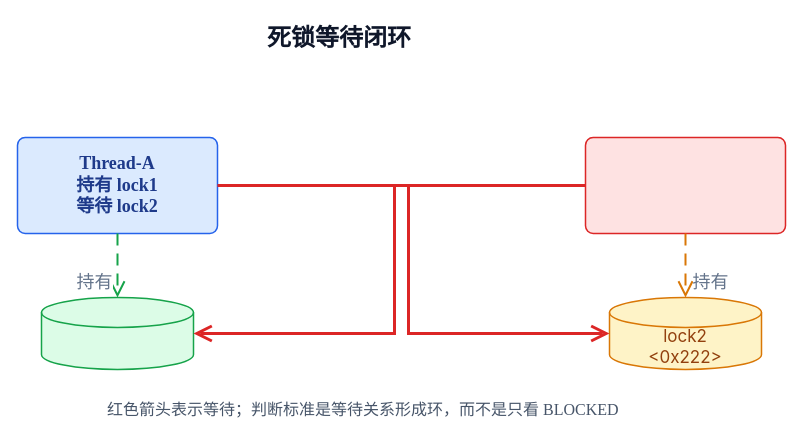
The diagram is 804 pixels wide and 442 high, and some of its shapes have lost their labels. Here are the shapes that lost their labels. From the top down, the centre of each, then its label:
At point 685,185: "Thread-B 持有 lock2 等待 lock1".
At point 117,333: "lock1".
